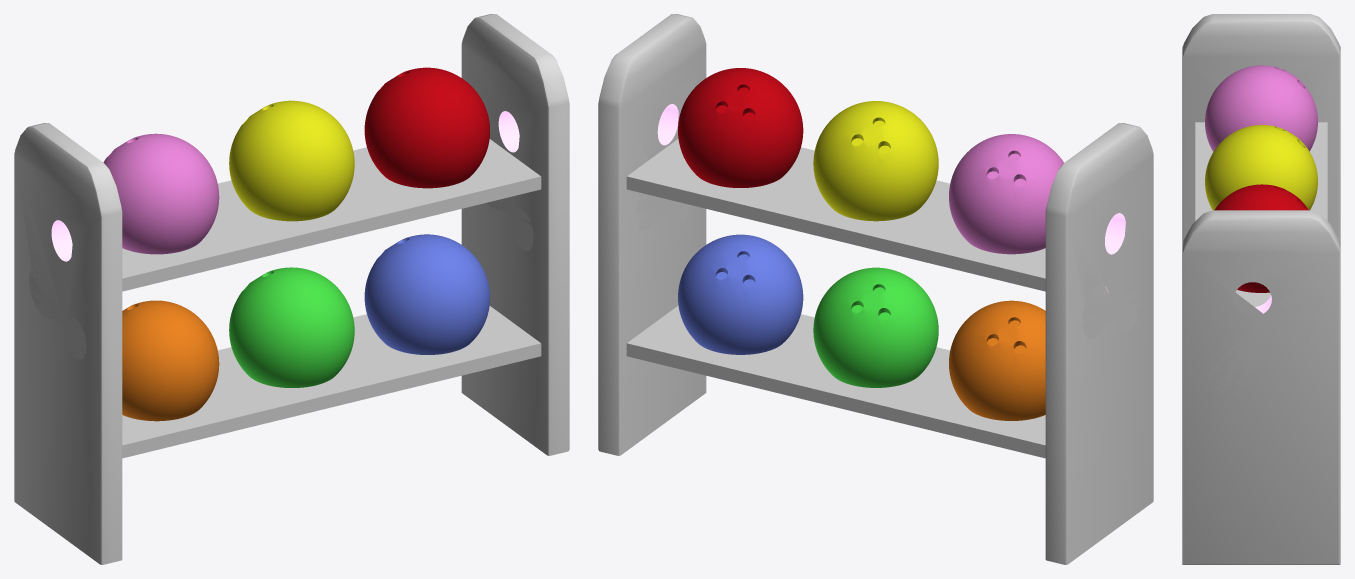
Rendered from BowlingRack.fbx.
The picture shows the model from 3 angles, left to right: view 1: azimuth 30°, elevation 25°; view 2: azimuth 150°, elevation 25°; view 3: azimuth 270°, elevation 25°; orthographic projection. The views are drawn at different scales.
Visible parts, largest first — view 1: Cube.001, BowlBallYellow, BowlBallRed, BowlBallGreen, BowlBallBlue, BowlBallPink, BowlBallOrange; view 2: Cube.001, BowlBallGreen, BowlBallYellow, BowlBallBlue, BowlBallRed, BowlBallPink, BowlBallOrange; view 3: Cube.001, BowlBallPink, BowlBallYellow, BowlBallRed.
Part boxes in pixels (<box>): Cube.001: <box>14,14,569,564</box>; BowlBallYellow: <box>229,100,354,221</box>; BowlBallRed: <box>364,67,489,188</box>; BowlBallGreen: <box>229,267,354,387</box>; BowlBallBlue: <box>364,234,489,354</box>; BowlBallPink: <box>103,133,219,254</box>; BowlBallOrange: <box>122,300,219,421</box>; Cube.001: <box>598,14,1153,564</box>; BowlBallGreen: <box>813,267,938,387</box>; BowlBallYellow: <box>813,101,938,221</box>; BowlBallBlue: <box>678,234,803,354</box>; BowlBallRed: <box>678,68,803,187</box>; BowlBallPink: <box>949,134,1063,254</box>; BowlBallOrange: <box>949,300,1045,420</box>; Cube.001: <box>1182,14,1340,564</box>; BowlBallPink: <box>1205,65,1317,151</box>; BowlBallYellow: <box>1205,125,1317,210</box>; BowlBallRed: <box>1214,184,1308,292</box>.
Bounding box in the file's own units: 128 × 101 × 41.53.
